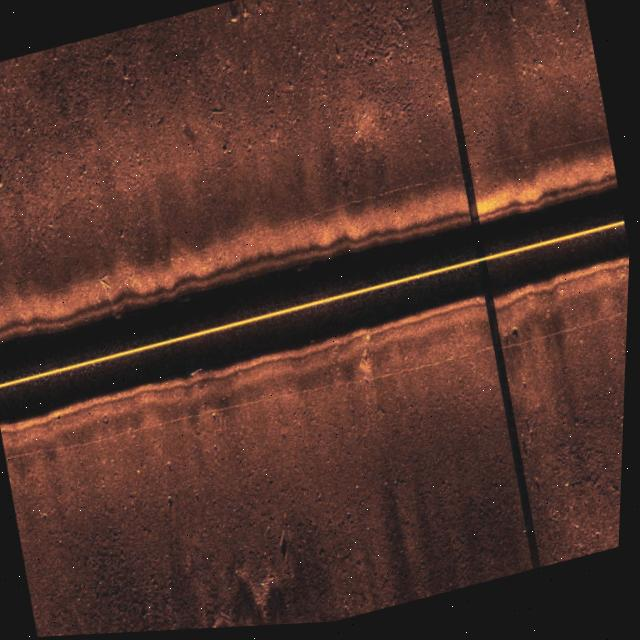mine: (276, 526, 300, 568), (0, 156, 8, 190)
other: (538, 0, 565, 8)
